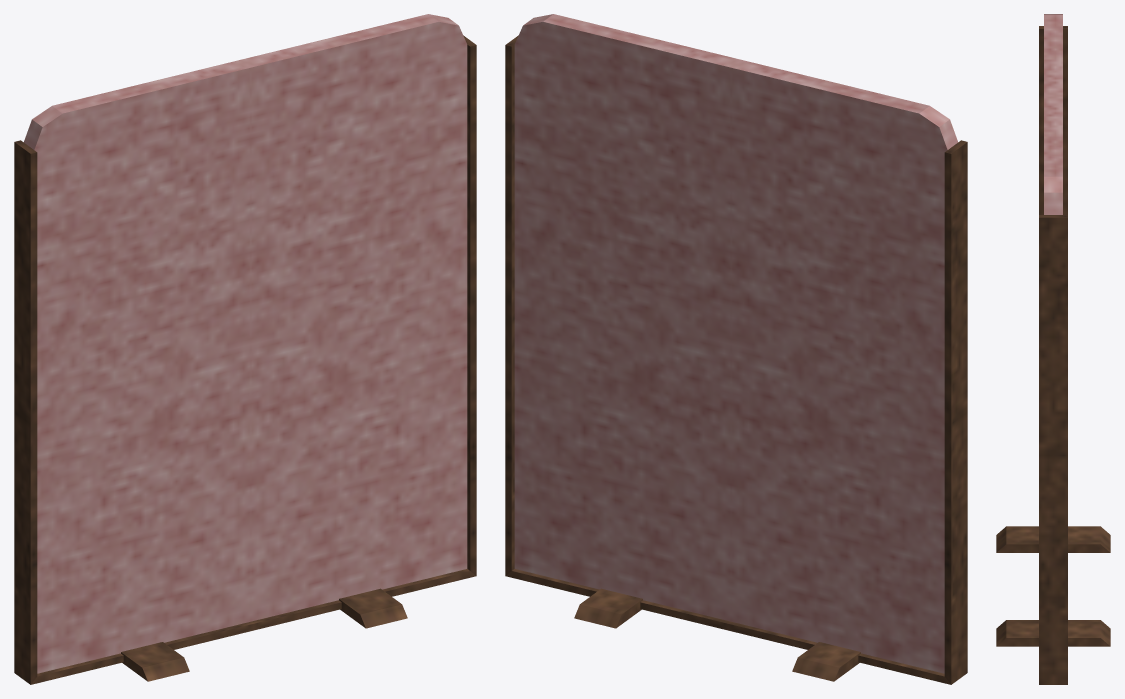
Rendered from divider_wood_red_half.obj.
3 renders of one model, left to right at view 1: azimuth 30°, elevation 25°; view 2: azimuth 150°, elevation 25°; view 3: azimuth 270°, elevation 25°, orthographic. The views are drawn at different scales.
Visible parts, largest first — view 1: divider_wood_red_half; view 2: divider_wood_red_half; view 3: divider_wood_red_half.
Part boxes in pixels (x1,y1,x2,y2): divider_wood_red_half: (14, 14, 476, 684); divider_wood_red_half: (505, 14, 967, 684); divider_wood_red_half: (996, 14, 1110, 684).
Bounding box in the file's own units: 2.07 × 2.5 × 0.523.
